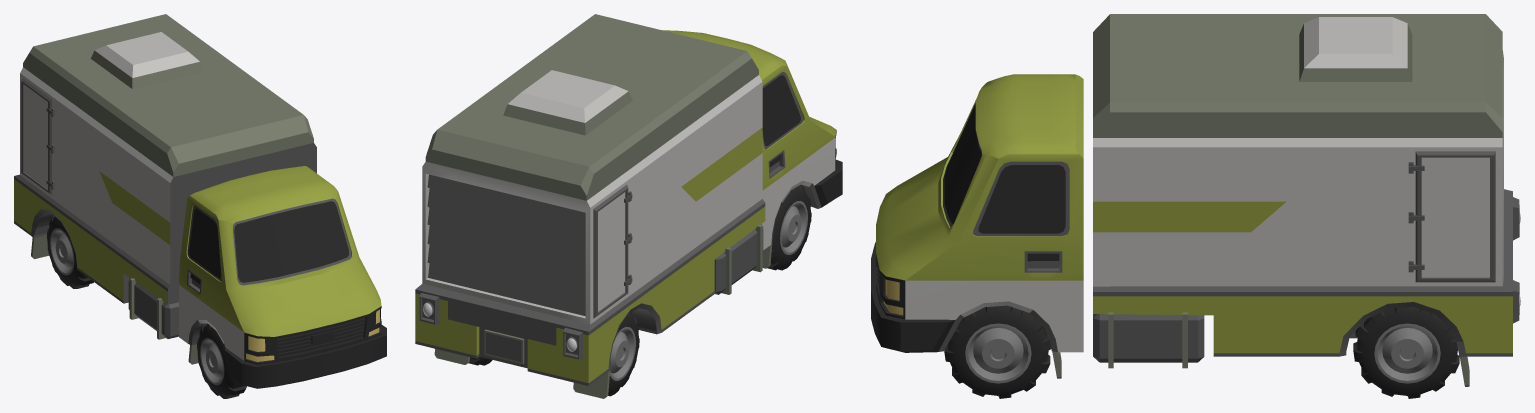
The model's file is step-van.glb.
3 renders of one model, left to right at view 1: azimuth 30°, elevation 25°; view 2: azimuth 150°, elevation 25°; view 3: azimuth 270°, elevation 25°, orthographic. The views are drawn at different scales.
Parts seen in each view (by area): view 1: step-van; view 2: step-van; view 3: step-van.
Boxes of the visible parts, x1,y1,x2,y2 form: step-van: (14,14,386,398); step-van: (415,14,842,398); step-van: (871,14,1520,398).
Size of the model in its own units: 2.3 by 3.29 by 6.
3 materials, 1 textured.
